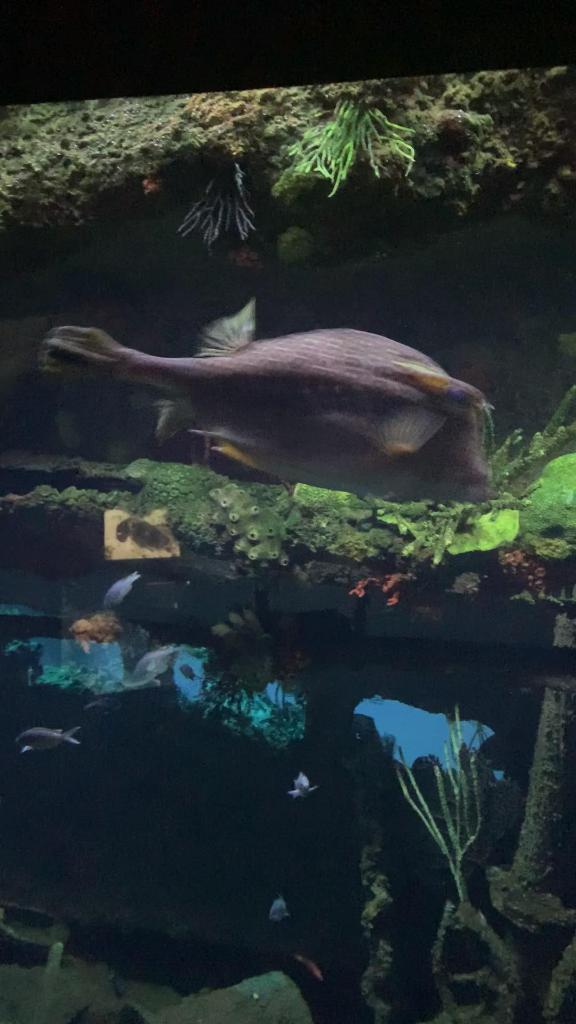fish: (36, 297, 494, 501), (117, 640, 182, 696), (13, 723, 82, 755), (101, 570, 142, 612), (292, 948, 324, 986), (286, 768, 320, 802), (266, 890, 290, 924)
